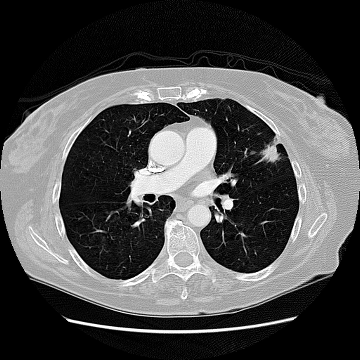nodule: (263, 143, 281, 161)
